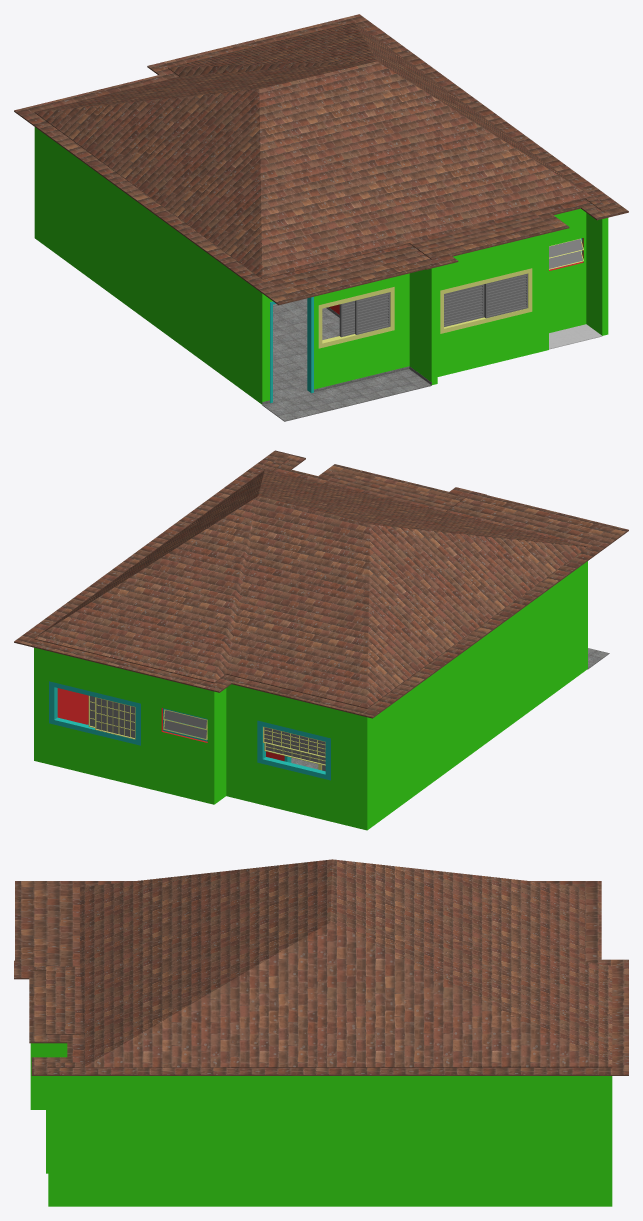
File: com_rodape.fbx
3 views of the same model, one above another, from view 1: azimuth 30°, elevation 25°; view 2: azimuth 150°, elevation 25°; view 3: azimuth 270°, elevation 25° (orthographic). The views are drawn at different scales.
Parts seen in each view (by area): view 1: telhadoCima, parede_all, telhadoFora, janela_suite, chao_cozinha/salaDeEstar, chao_varanda, janela_sala, porta_varanda, janela_banheiro, chao_grama; view 2: telhadoCima, parede_all, telhadoFora, janela_dormitorio, janela_lavanderia, janela_banheiro2; view 3: telhadoCima, parede_all, telhadoFora.
Part boxes in pixels (bbox=[...]): telhadoCima: bbox=[34, 22, 609, 279]; parede_all: bbox=[34, 127, 608, 404]; telhadoFora: bbox=[14, 14, 628, 305]; janela_suite: bbox=[440, 268, 532, 333]; chao_cozinha/salaDeEstar: bbox=[273, 298, 339, 398]; chao_varanda: bbox=[262, 369, 431, 421]; janela_sala: bbox=[318, 287, 394, 348]; porta_varanda: bbox=[270, 297, 313, 403]; janela_banheiro: bbox=[549, 238, 583, 269]; chao_grama: bbox=[549, 324, 602, 349]; telhadoCima: bbox=[34, 457, 587, 708]; parede_all: bbox=[34, 561, 587, 830]; telhadoFora: bbox=[14, 450, 628, 718]; janela_dormitorio: bbox=[49, 681, 140, 745]; janela_lavanderia: bbox=[257, 720, 330, 780]; janela_banheiro2: bbox=[163, 708, 207, 741]; telhadoCima: bbox=[30, 859, 612, 1067]; parede_all: bbox=[30, 1043, 612, 1206]; telhadoFora: bbox=[14, 881, 628, 1075].
Size of the model in its own units: 603 by 333 by 810.
